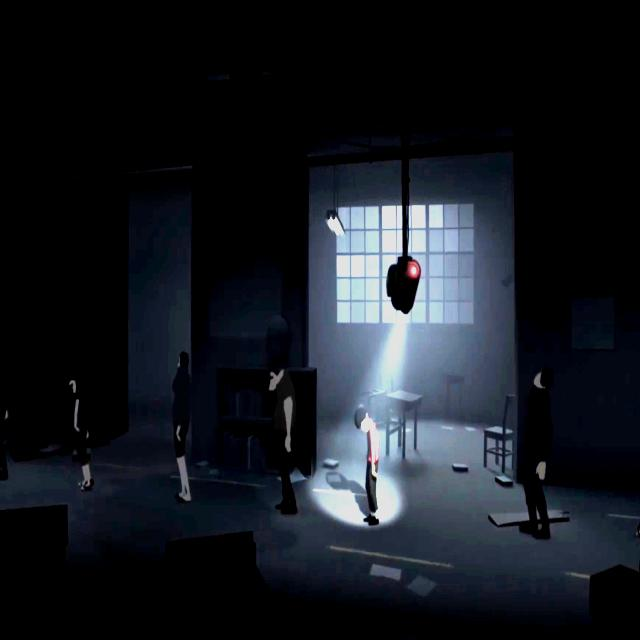boy: (354, 405, 382, 528)
zombie: (522, 366, 554, 538), (264, 364, 296, 514), (66, 374, 95, 490), (171, 352, 191, 502), (0, 349, 12, 482)
